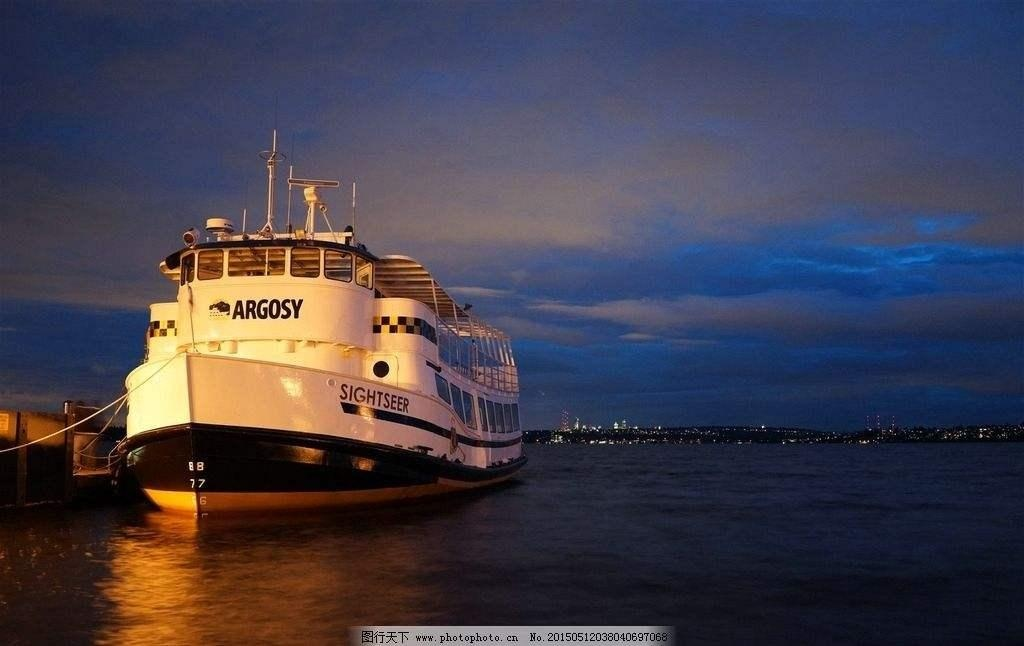youlun: (113, 131, 529, 516)
